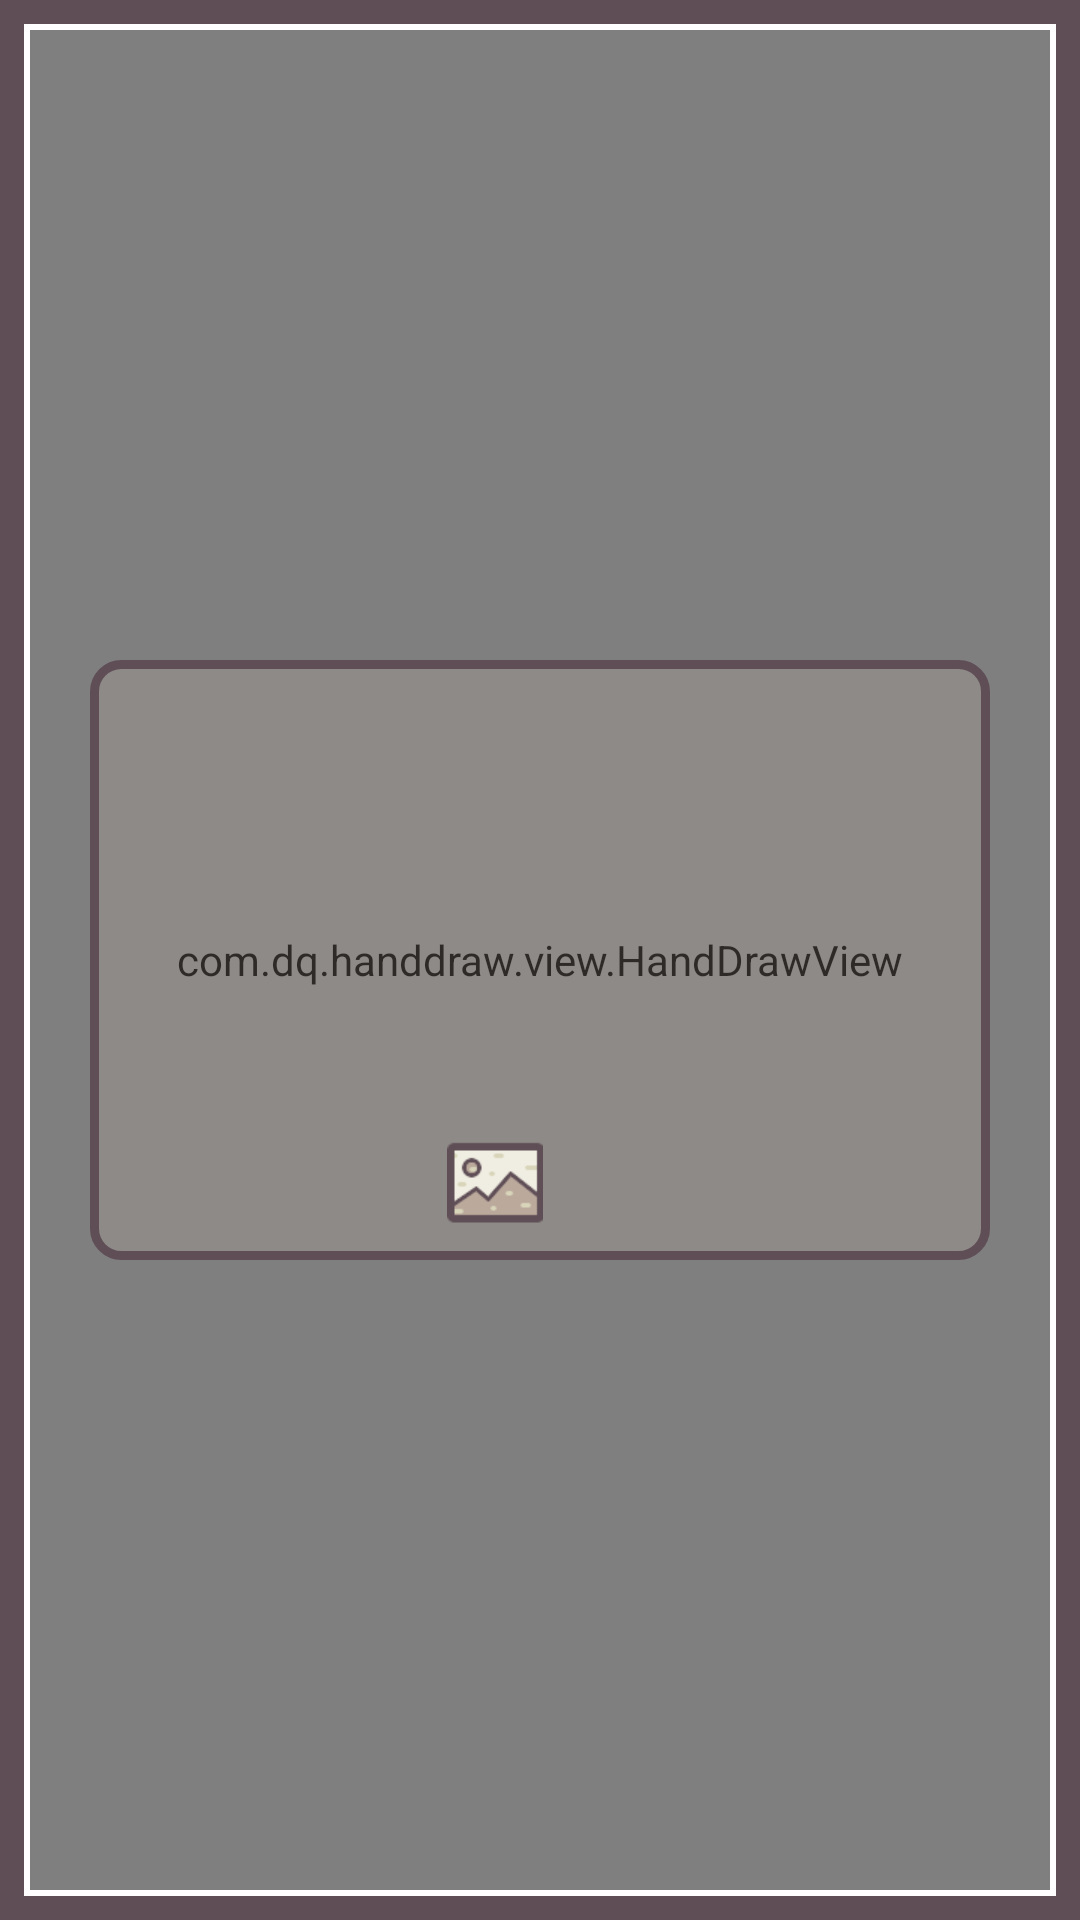

Named icons in this screenshot (1080px×1920px) and their bounding boxes, {"x1": x1, "y1": y1, "x2": x2, "y2": y2}:
picture select: {"x1": 447, "y1": 1143, "x2": 543, "y2": 1223}
